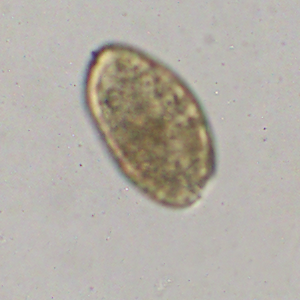Fasciola_hepatica_egg: (81, 40, 221, 211)
